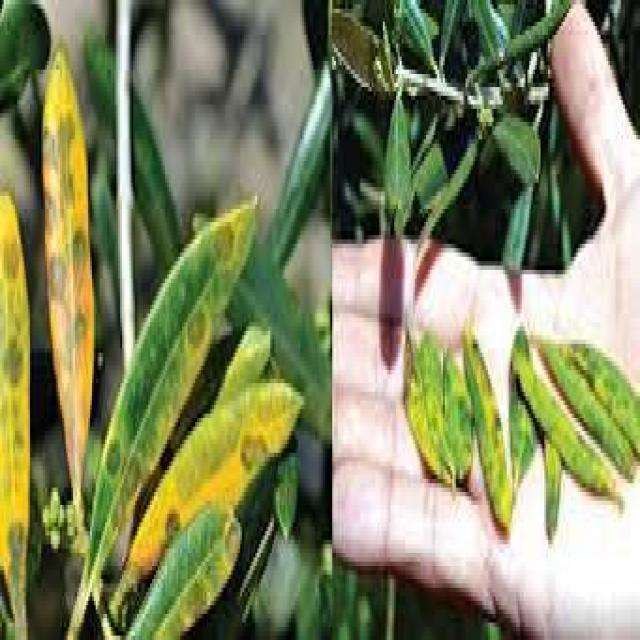Peacock Eye: (84, 196, 255, 579), (128, 379, 302, 570), (45, 48, 94, 496), (510, 331, 619, 496), (0, 192, 38, 636), (539, 340, 638, 479), (128, 514, 240, 636), (462, 327, 510, 531), (576, 344, 638, 457)
